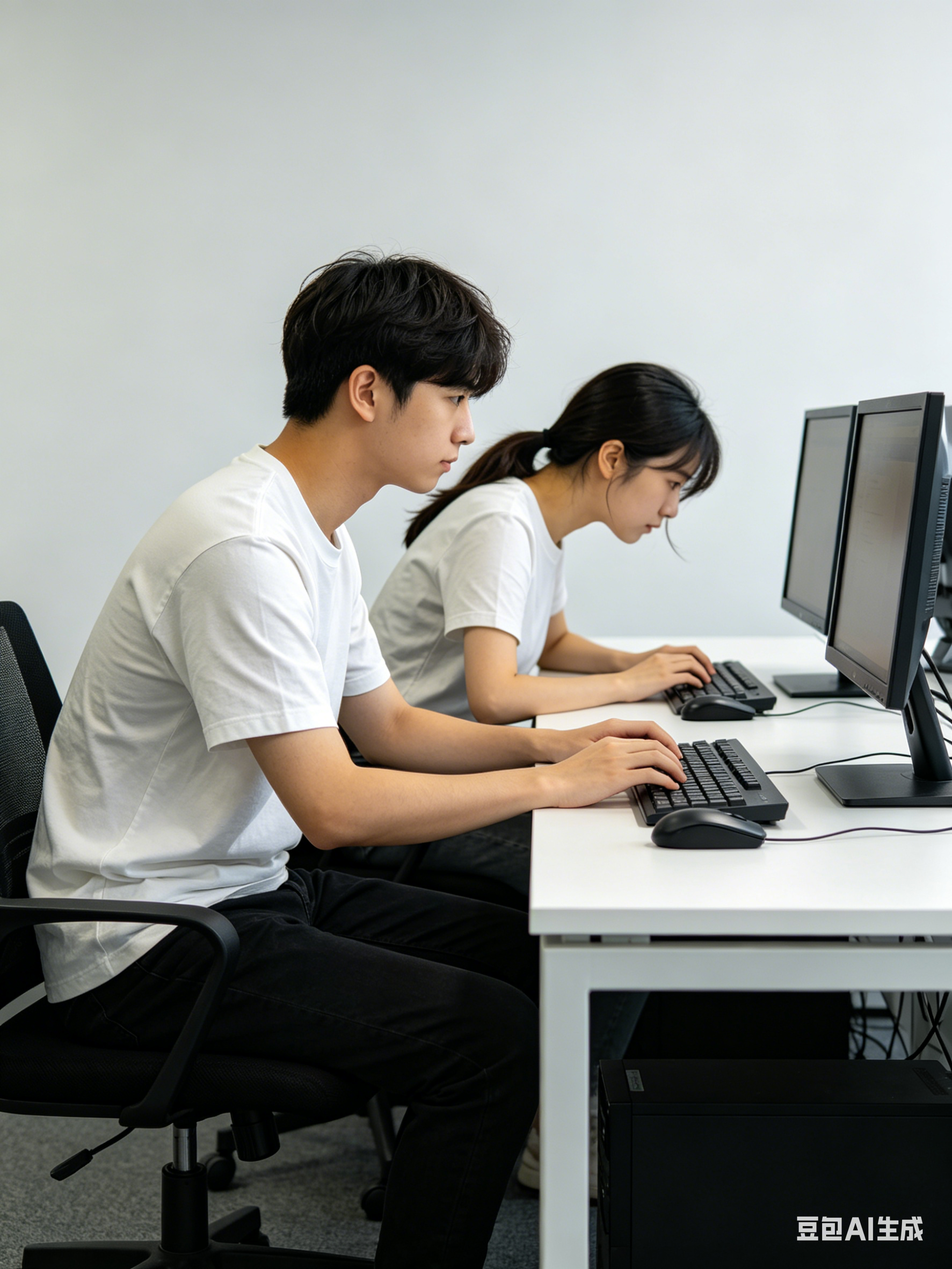sitting_bad: (362, 357, 755, 738)
sitting_good: (72, 246, 520, 946)
